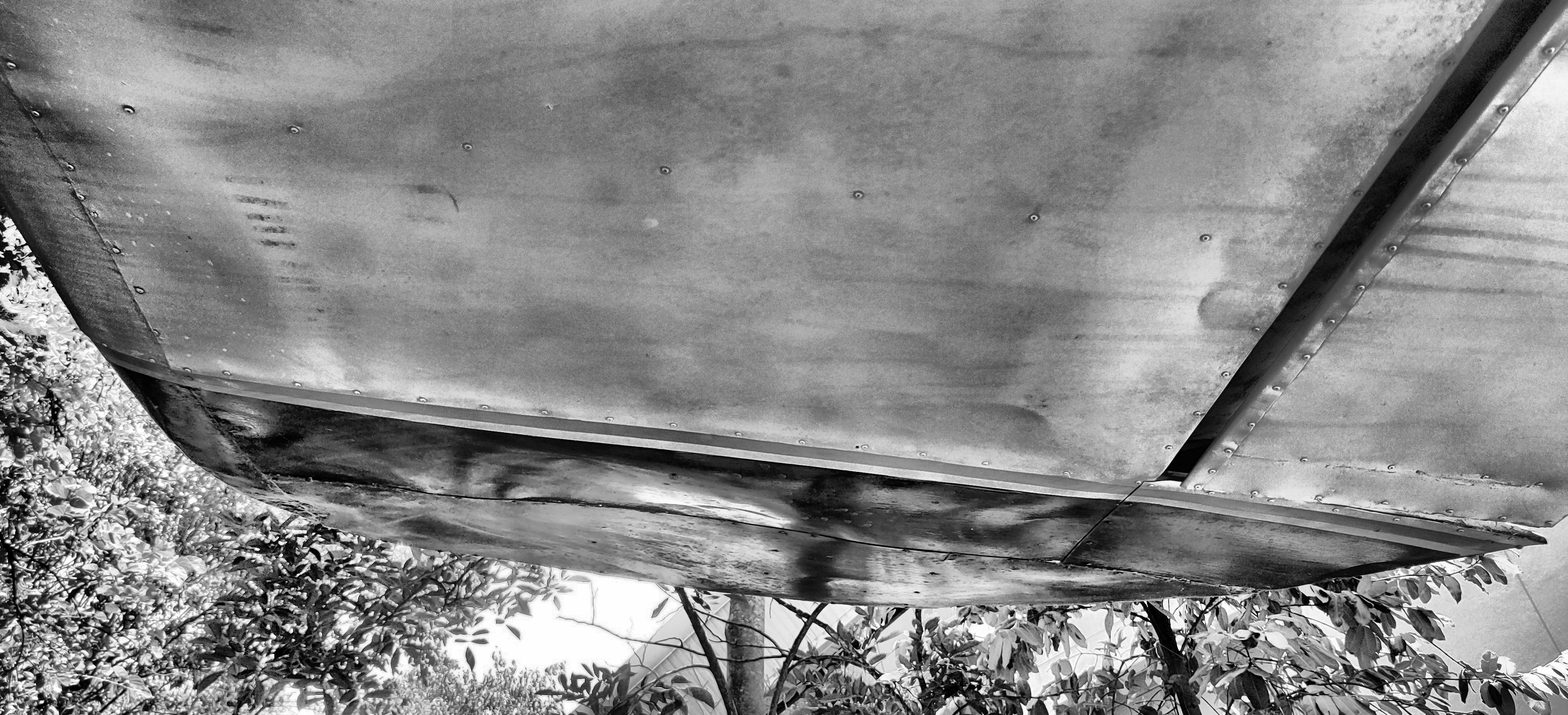dent: (263, 495, 360, 529), (208, 412, 257, 438)
